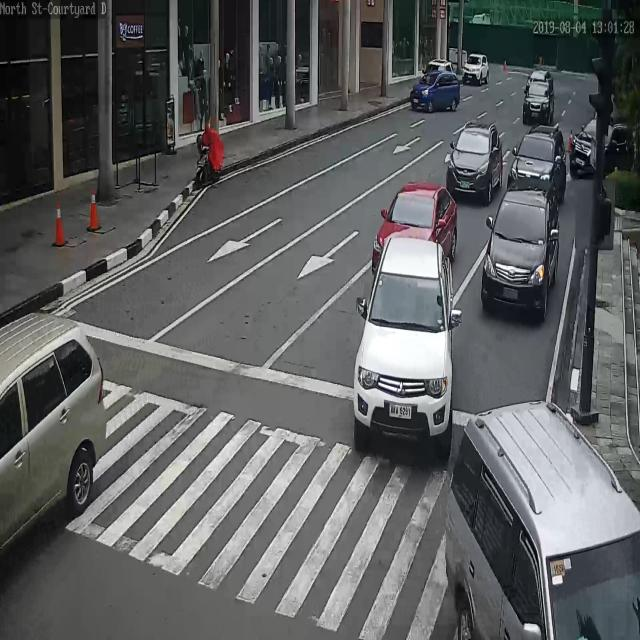car: (441, 397, 640, 640), (0, 308, 107, 574), (351, 236, 454, 450), (480, 188, 558, 314), (371, 179, 457, 274), (443, 122, 503, 203), (570, 115, 640, 180), (511, 124, 571, 195), (411, 72, 461, 111), (524, 79, 554, 124), (421, 60, 454, 86), (464, 51, 489, 84), (526, 68, 549, 91)
jeepney: (195, 117, 222, 189)
